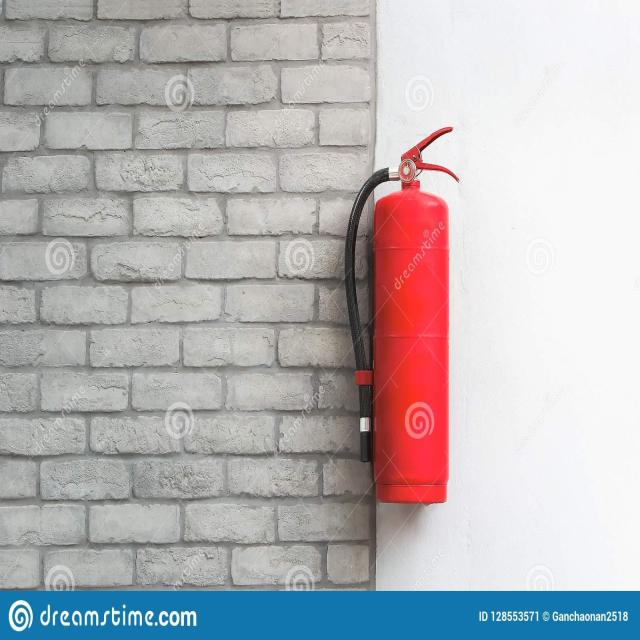fire_extinguisher: (342, 122, 460, 509)
